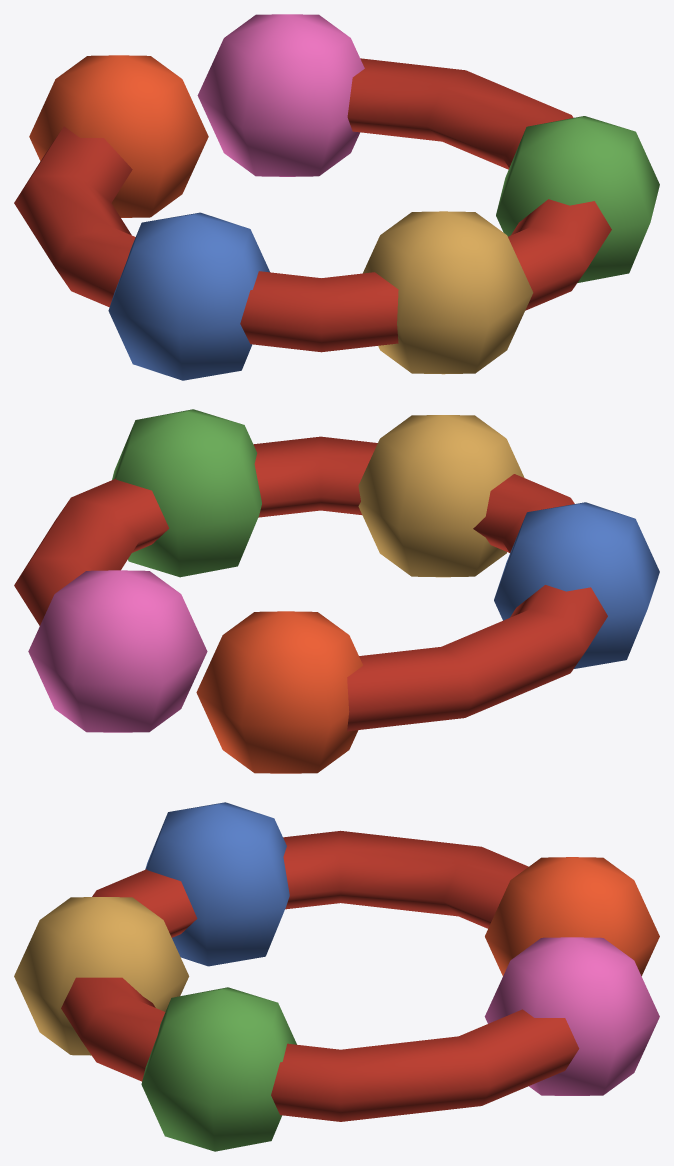
File: BraceletToy_01.fbx
3 renders of one model, top to bottom at view 1: azimuth 30°, elevation 25°; view 2: azimuth 150°, elevation 25°; view 3: azimuth 270°, elevation 25°, orthographic. The views are drawn at different scales.
Visible parts, largest first — view 1: BraceletToy_01; view 2: BraceletToy_01; view 3: BraceletToy_01.
Part boxes in pixels (x1,y1,x2,y2): BraceletToy_01: (14, 14, 659, 380); BraceletToy_01: (14, 409, 659, 773); BraceletToy_01: (14, 802, 659, 1151).
Size of the model in its own units: 0.1079 by 0.0309 by 0.1139.
